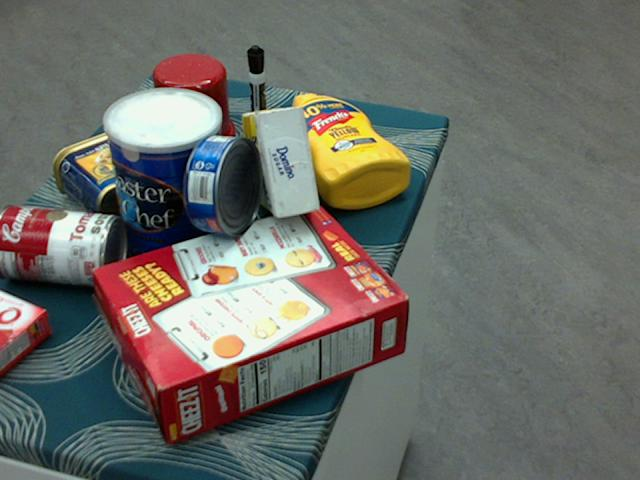cracker_box: (93, 201, 408, 442)
gelatin_box: (0, 289, 53, 379)
large_marker: (246, 44, 266, 149)
master_chef_can: (103, 89, 226, 274)
mug: (151, 55, 234, 154)
mustard_bottle: (283, 92, 409, 208)
potted_meat_can: (52, 125, 182, 225)
sugar_box: (239, 107, 318, 218)
tomato_soup_can: (0, 201, 126, 288)
tuna_fish_can: (183, 134, 262, 234)
